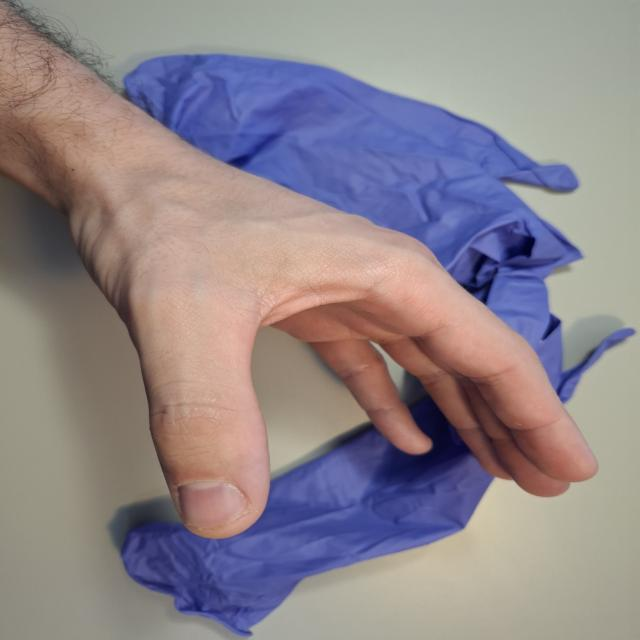glove_off: (51, 141, 605, 542)
